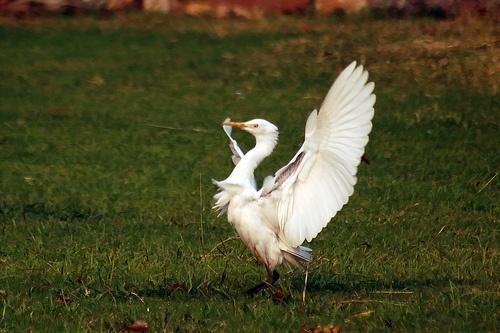bird: (209, 60, 378, 302)
